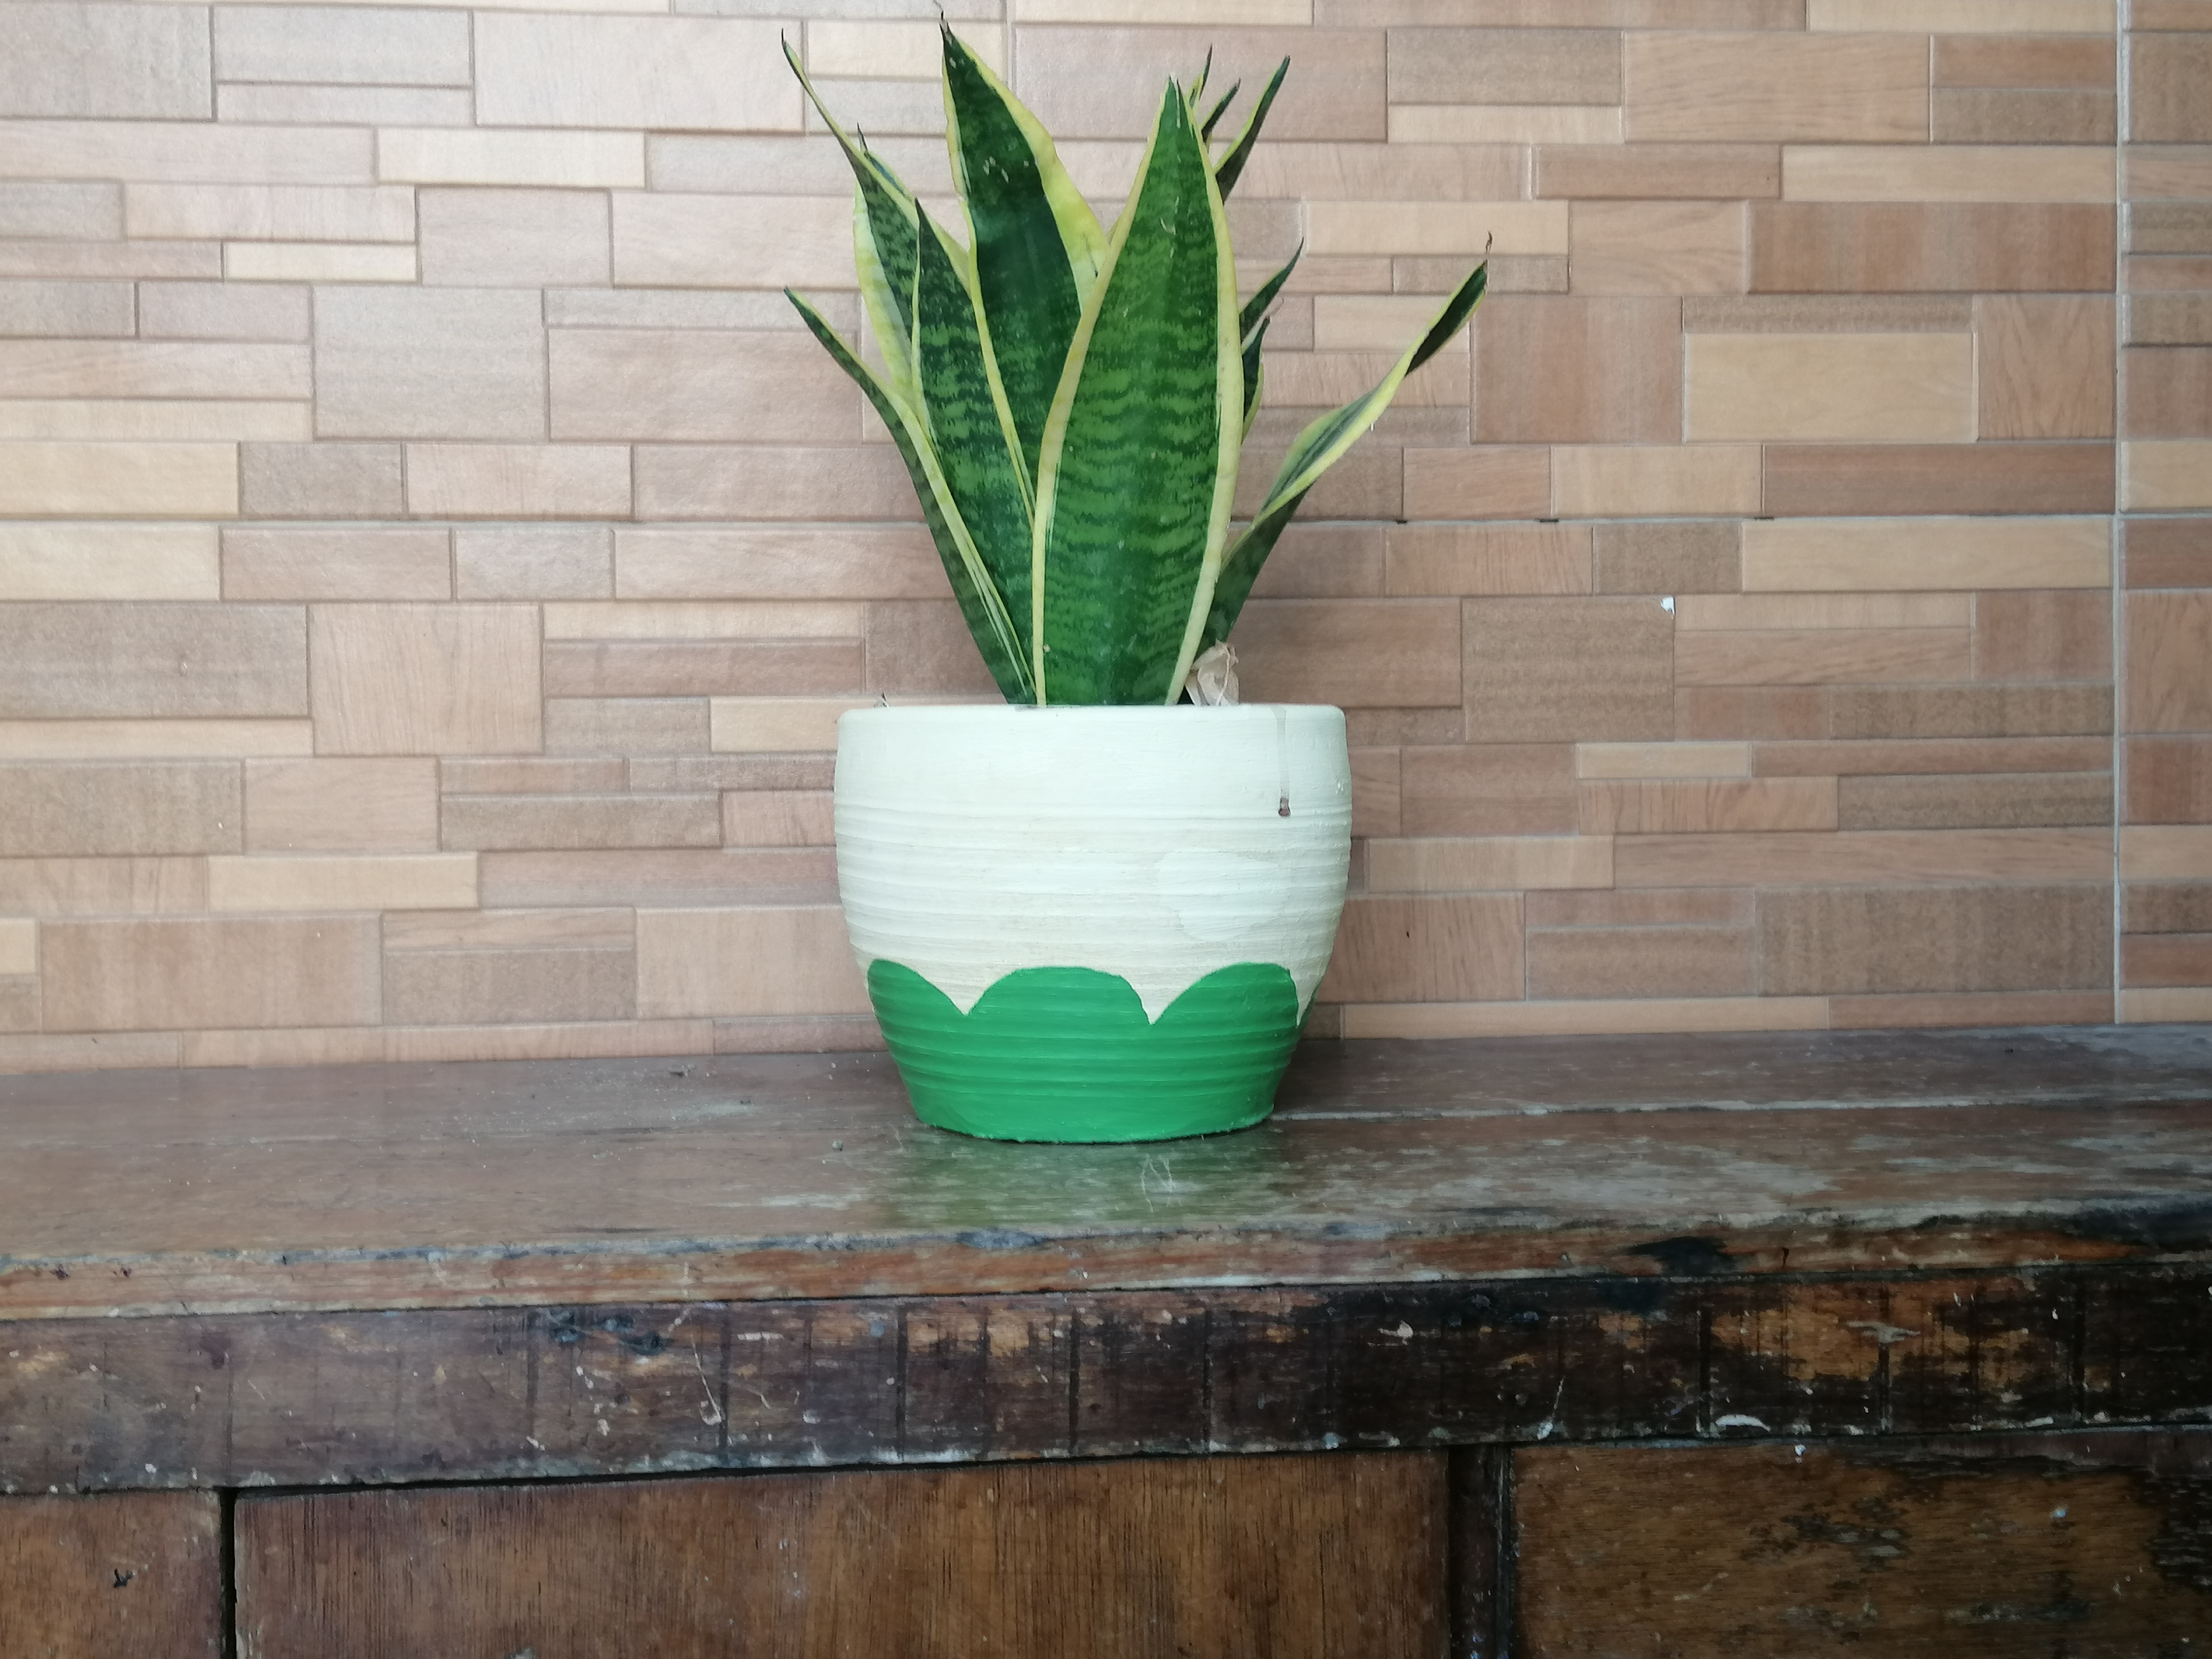plant: (772, 3, 1496, 1152)
